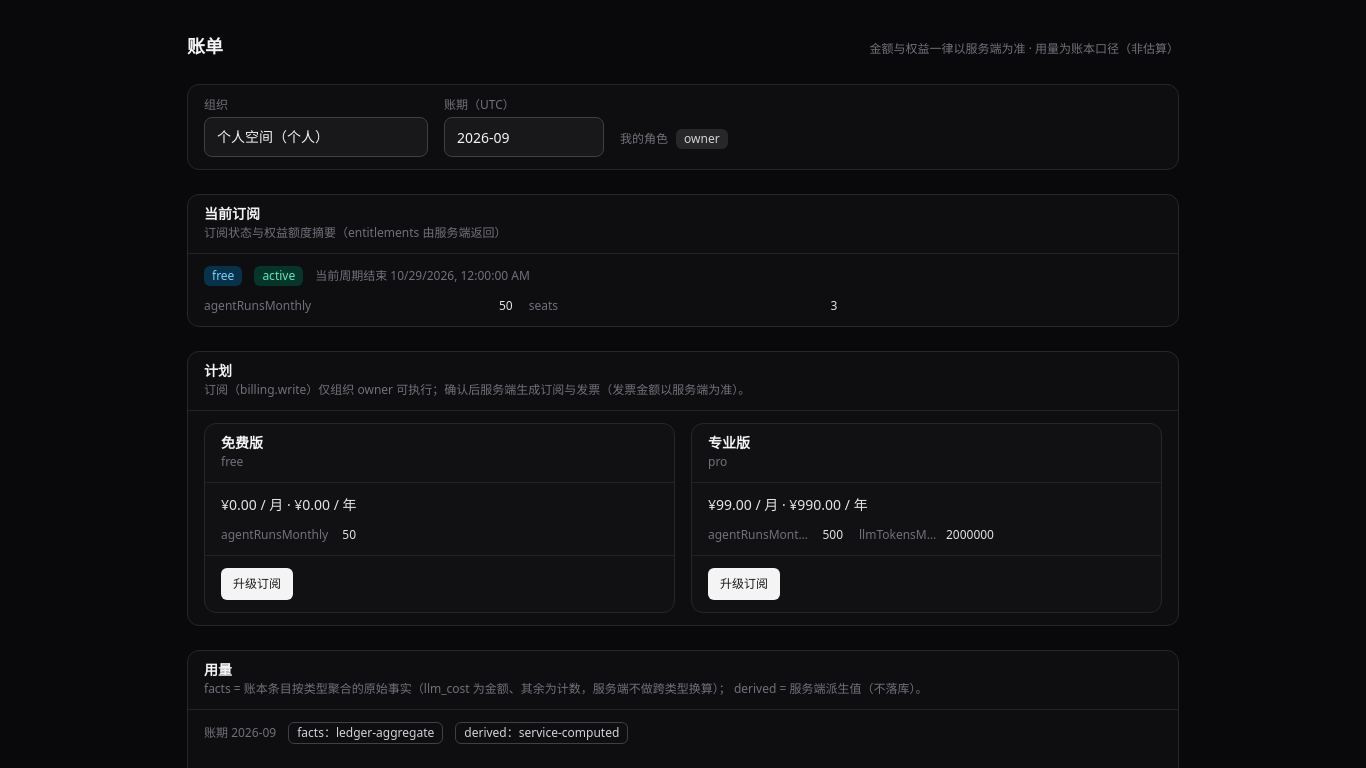
it: /billing 订阅动作 › owner 订阅：确认框 → POST subscribe（organizationId + planId）→ 成功提示 + 订阅/发票失效重取
This screenshot has width=1366, height=768.
expect the heading "计划" is shown: met, box [204,361,232,380]
Click the button with aria-label "订阅 专业版". click: click(744, 584)
box: [708,568,780,600]
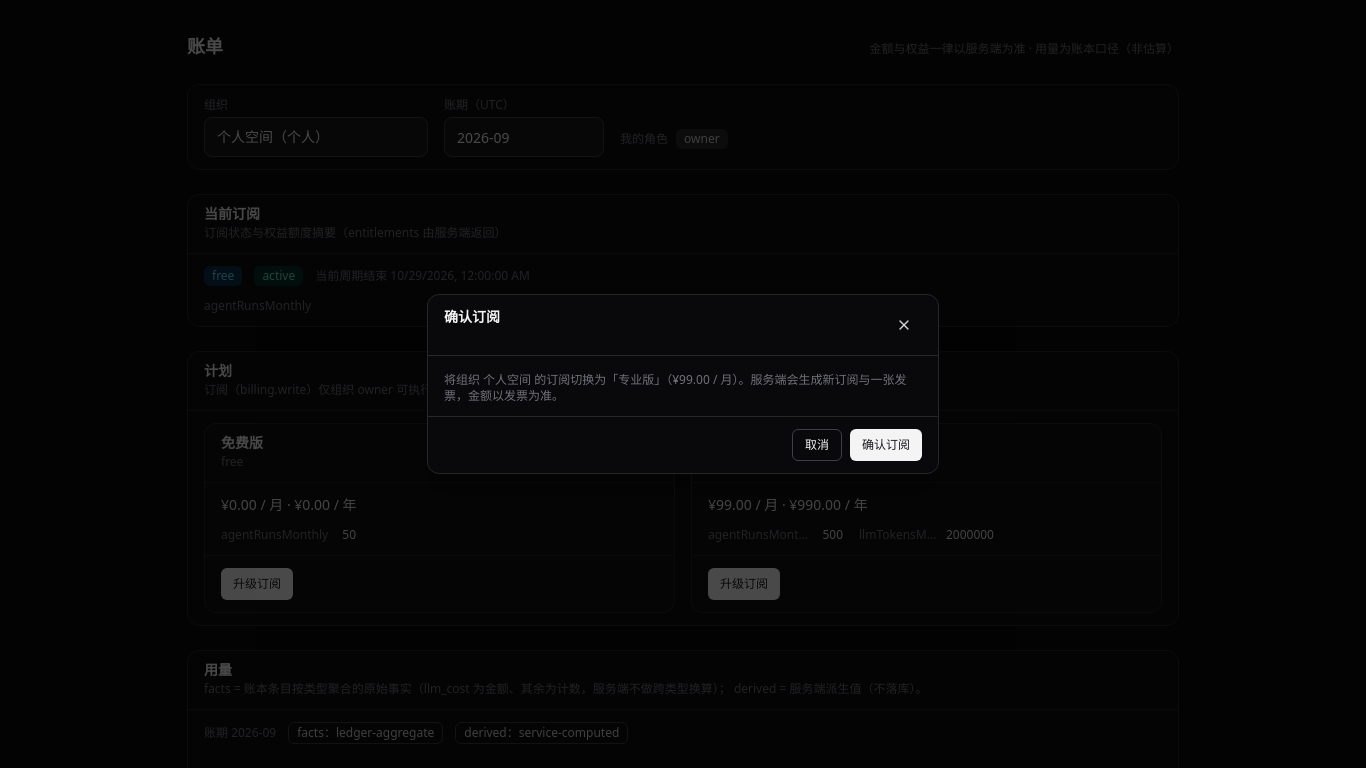
expect the heading "确认订阅" is shown: met, box [444,307,500,327]
expect the text "将组织 个人空间 的订阅切换为「专业版」（¥99.00 / 月）。服务端会生成新订阅与一张发票，金额以发票为准。" is shown: met, box [444,372,922,404]
Click the button "确认订阅". click: click(886, 445)
box: [850,429,922,461]
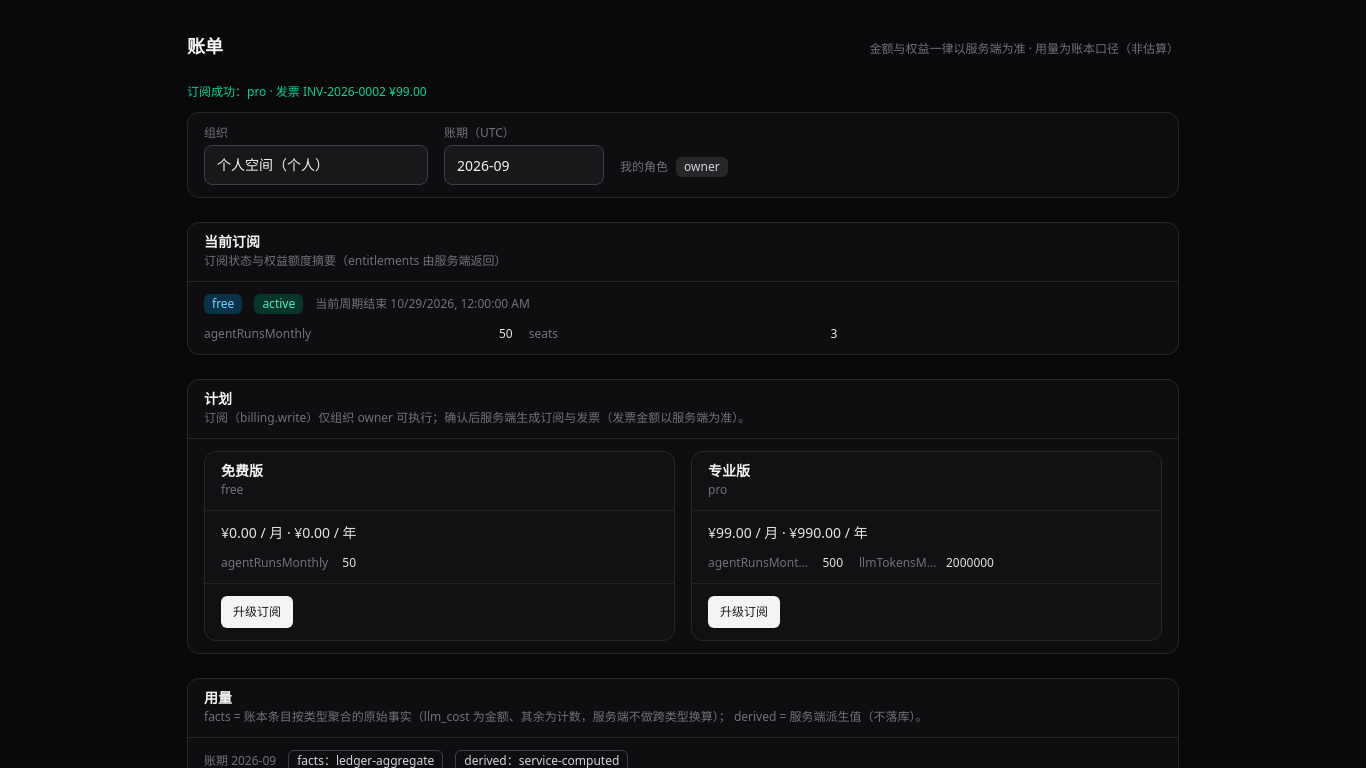
expect the message reads "订阅成功：pro · 发票 INV-2026-0002 ¥99.00": met, box [187,83,427,100]
